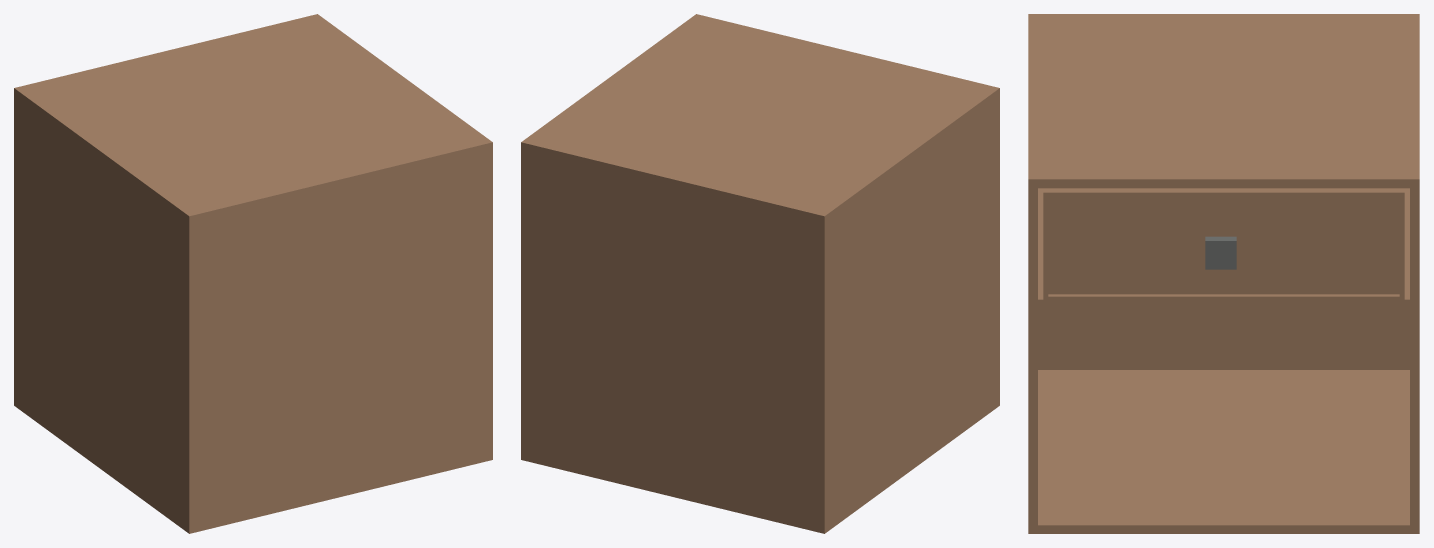
File: Buro.fbx
3 renders of one model, left to right at view 1: azimuth 30°, elevation 25°; view 2: azimuth 150°, elevation 25°; view 3: azimuth 270°, elevation 25°, orthographic. The views are drawn at different scales.
Parts seen in each view (by area): view 1: Buro; view 2: Buro; view 3: Buro.
Part boxes in pixels (x1=…): Buro: x1=14, y1=14, x2=492, y2=533; Buro: x1=521, y1=14, x2=999, y2=533; Buro: x1=1028, y1=14, x2=1419, y2=533.
Size of the model in its own units: 77 by 75 by 75.
